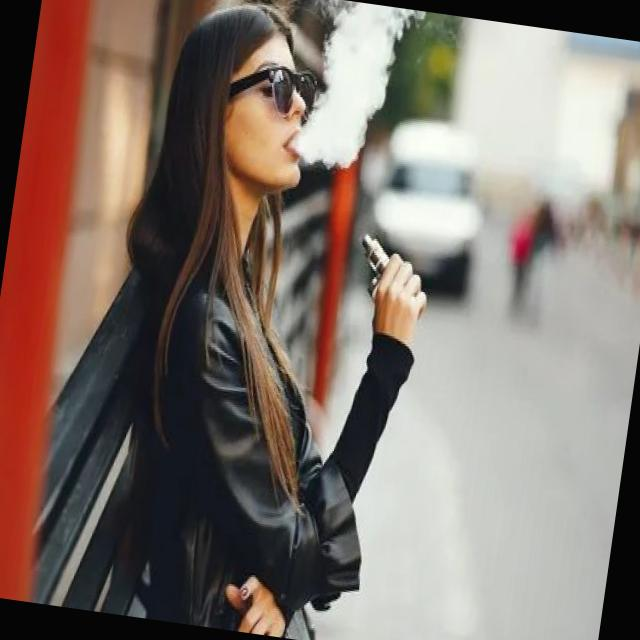cigarette: (350, 230, 403, 296)
